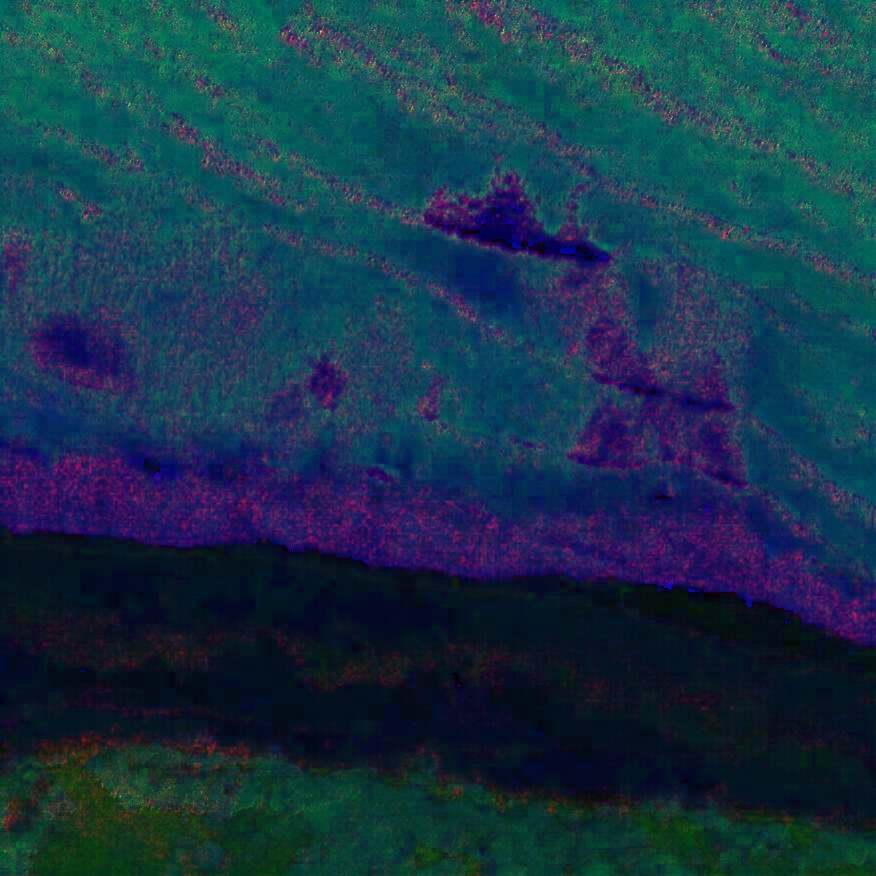rip_current: (346, 208, 642, 511)
